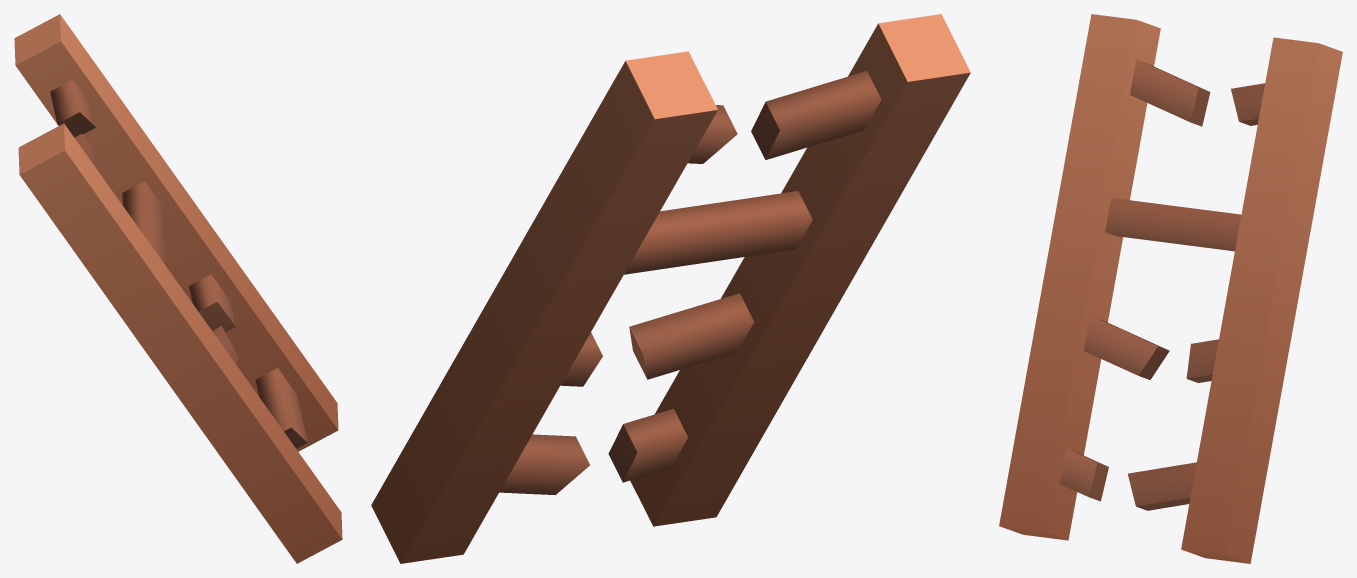
File: n5_n5_n5_ladder-broken_lev5.001.glb
3 renders of one model, left to right at view 1: azimuth 30°, elevation 25°; view 2: azimuth 150°, elevation 25°; view 3: azimuth 270°, elevation 25°, orthographic. The views are drawn at different scales.
Visible parts, largest first — view 1: n5_n5_n5_ladder-broken_lev5.001; view 2: n5_n5_n5_ladder-broken_lev5.001; view 3: n5_n5_n5_ladder-broken_lev5.001.
Part boxes in pixels (x1,y1,x2,y2): n5_n5_n5_ladder-broken_lev5.001: (14,14,342,563); n5_n5_n5_ladder-broken_lev5.001: (371,14,970,563); n5_n5_n5_ladder-broken_lev5.001: (999,14,1342,563).
Size of the model in its own units: 1.85 by 2.17 by 1.5.
1 material, 1 textured.
